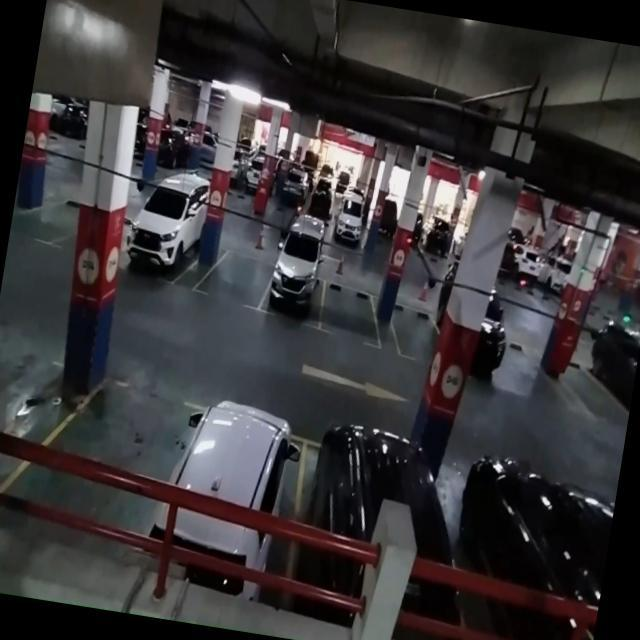empty: (24, 370, 182, 552), (196, 244, 272, 312), (316, 280, 386, 346), (384, 302, 442, 362)
occupied: (158, 396, 312, 584), (123, 170, 210, 291), (258, 246, 331, 330)
